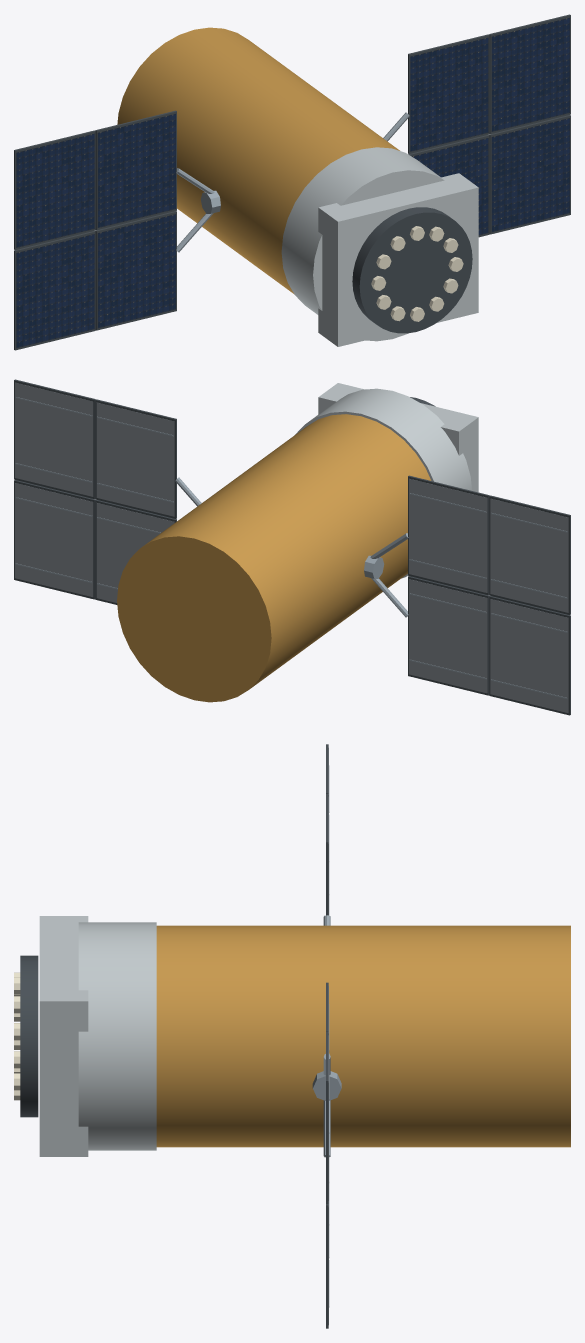
File: ref-geizer-13177.glb
3 views of the same model, one above another, from view 1: azimuth 30°, elevation 25°; view 2: azimuth 150°, elevation 25°; view 3: azimuth 270°, elevation 25° (orthographic). The views are drawn at different scales.
Visible parts, largest first — view 1: Solar cell panel (×8), Service barrel, Antenna equipment shelf, Planar antenna aperture, Equipment flange, Solar panel frame (×8); view 2: Rear array substrate (×8), Service barrel, Solar panel frame (×8), Equipment flange, Antenna equipment shelf; view 3: Service barrel, Equipment flange, Antenna equipment shelf, Planar antenna aperture.
Boxes of the visible parts, x1,y1,x2,y2 form: Solar cell panel (×8): [16, 17, 569, 348]; Service barrel: [117, 27, 399, 294]; Antenna equipment shelf: [318, 173, 478, 346]; Planar antenna aperture: [352, 207, 472, 333]; Equipment flange: [281, 147, 444, 341]; Solar panel frame (×8): [14, 14, 570, 350]; Rear array substrate (×8): [15, 382, 568, 713]; Service barrel: [117, 414, 431, 702]; Solar panel frame (×8): [14, 379, 570, 715]; Equipment flange: [295, 388, 471, 578]; Antenna equipment shelf: [318, 383, 478, 492]; Service barrel: [156, 925, 570, 1147]; Equipment flange: [78, 922, 156, 1150]; Antenna equipment shelf: [39, 916, 88, 1156]; Planar antenna aperture: [20, 955, 38, 1117].
Size of the model in its own units: 8.99 by 3.08 by 6.28.
Materials: 7 (1 with a texture image).
